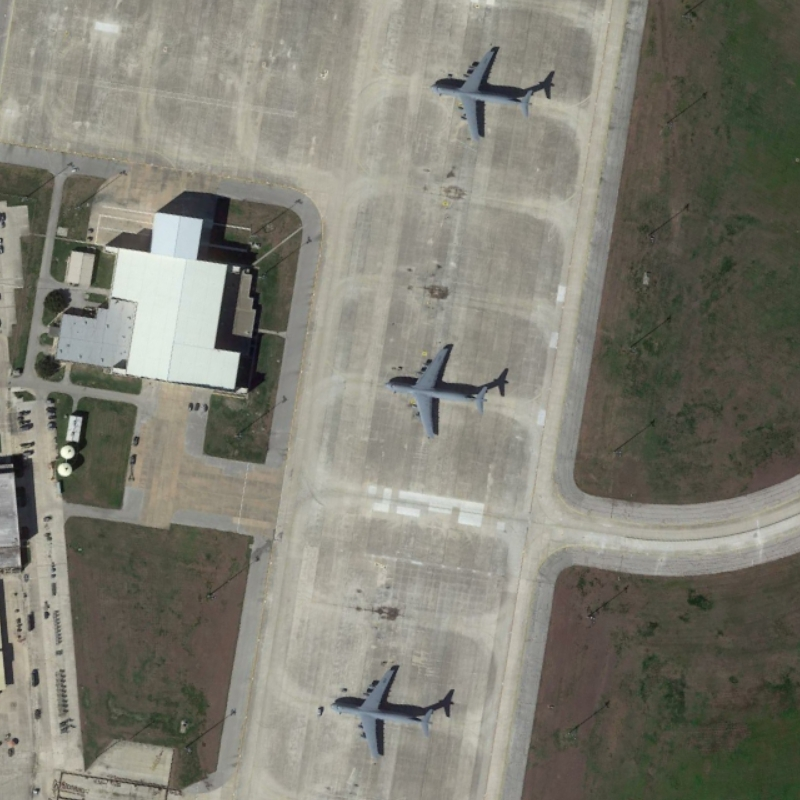A4: (325, 655, 443, 769), (379, 335, 493, 447), (425, 39, 538, 144)
